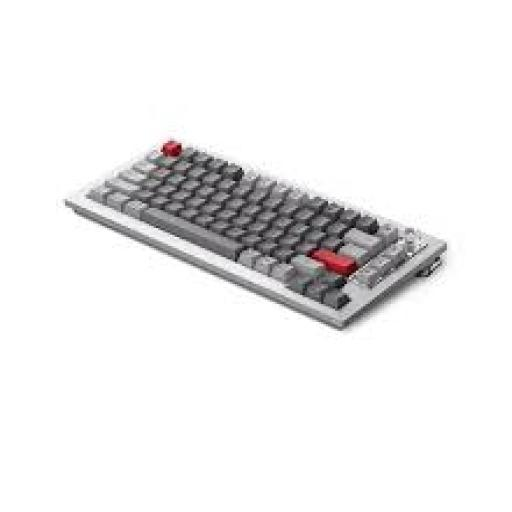KEYBOARD-2: (67, 136, 445, 326)
